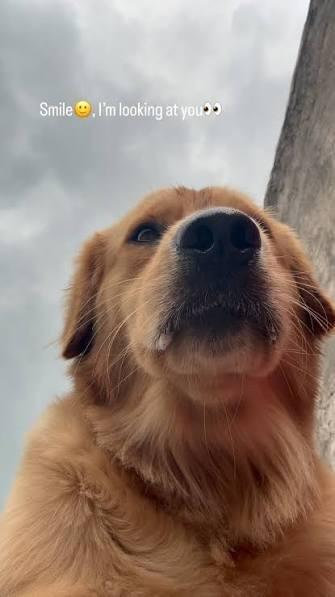adult_dog: (0, 184, 335, 597)
